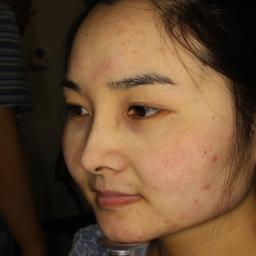ance: (166, 168, 196, 194), (158, 210, 190, 228), (112, 18, 138, 38), (80, 15, 100, 41), (108, 224, 134, 240), (196, 180, 220, 194), (118, 34, 136, 52), (208, 150, 224, 168), (147, 180, 165, 196), (190, 194, 206, 210), (198, 142, 214, 158), (112, 115, 124, 131)
